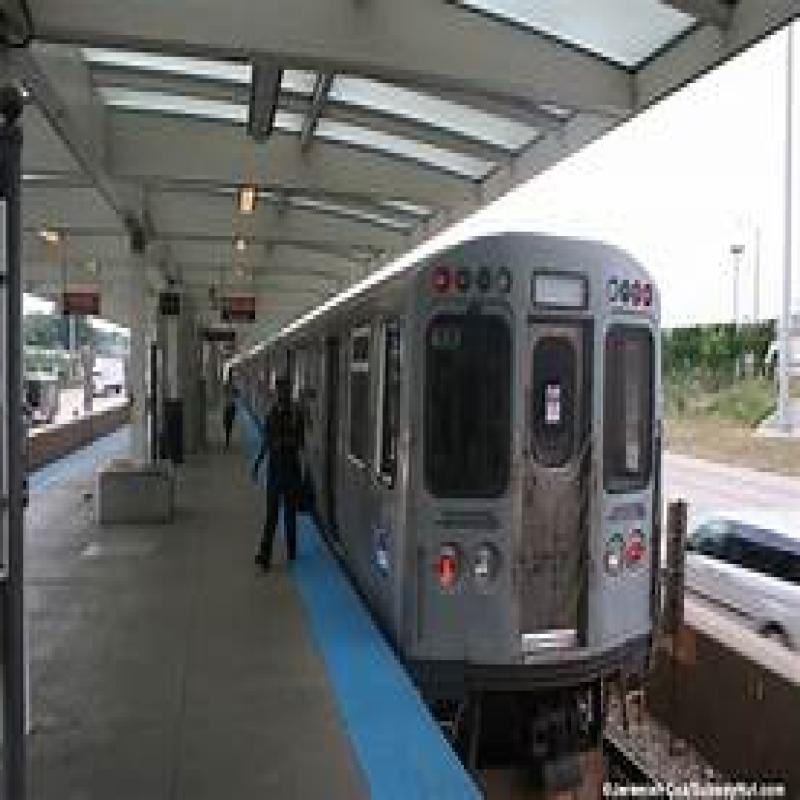train: (323, 259, 705, 674)
